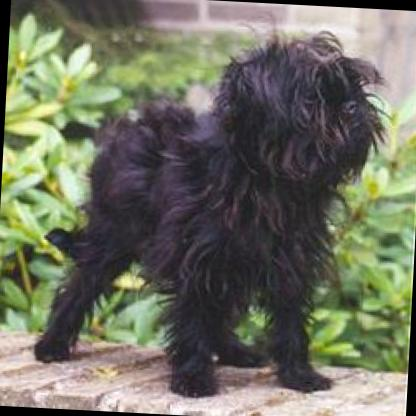affenpinscher: (24, 0, 406, 407)
